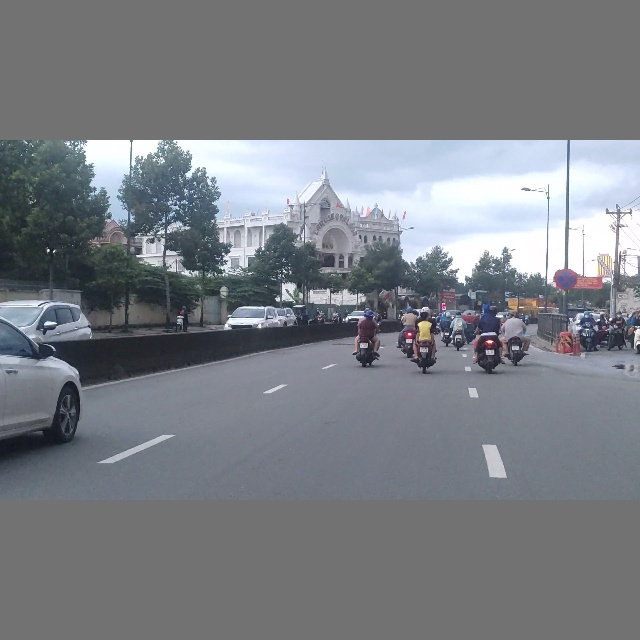P.130: (555, 269, 577, 289)
